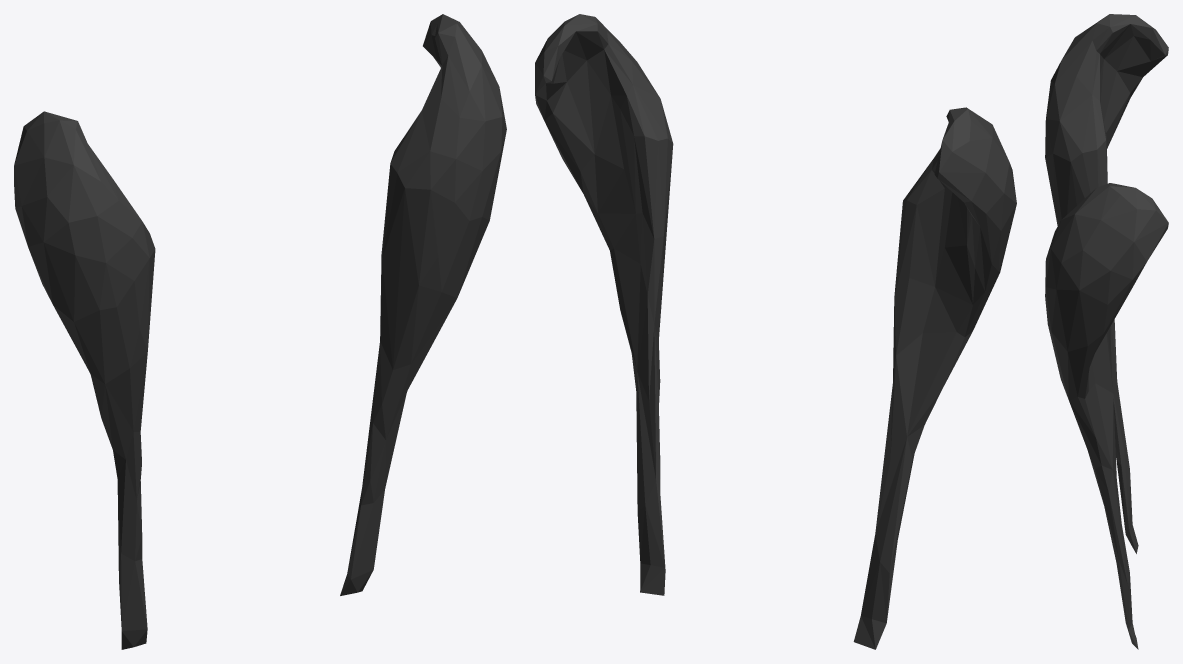
Rendered from m_extensor_carpi_radialis.glb.
3 views of the same model, side by side, from view 1: azimuth 30°, elevation 25°; view 2: azimuth 150°, elevation 25°; view 3: azimuth 270°, elevation 25° (orthographic). The views are drawn at different scales.
Visible parts, largest first — view 1: m_extensor_carpi_radialis; view 2: m_extensor_carpi_radialis; view 3: m_extensor_carpi_radialis.
Boxes of the visible parts, <box> form: m_extensor_carpi_radialis: <box>14,14,506,649</box>; m_extensor_carpi_radialis: <box>535,14,1016,649</box>; m_extensor_carpi_radialis: <box>1045,14,1168,649</box>.
Size of the model in its own units: 0.00717 by 0.00814 by 0.00183.
1 material, 1 textured.
